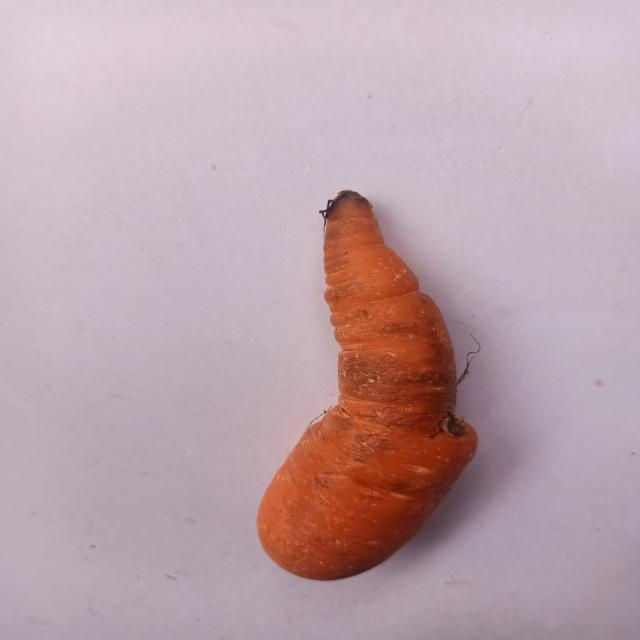Carrot: (248, 165, 510, 616)
